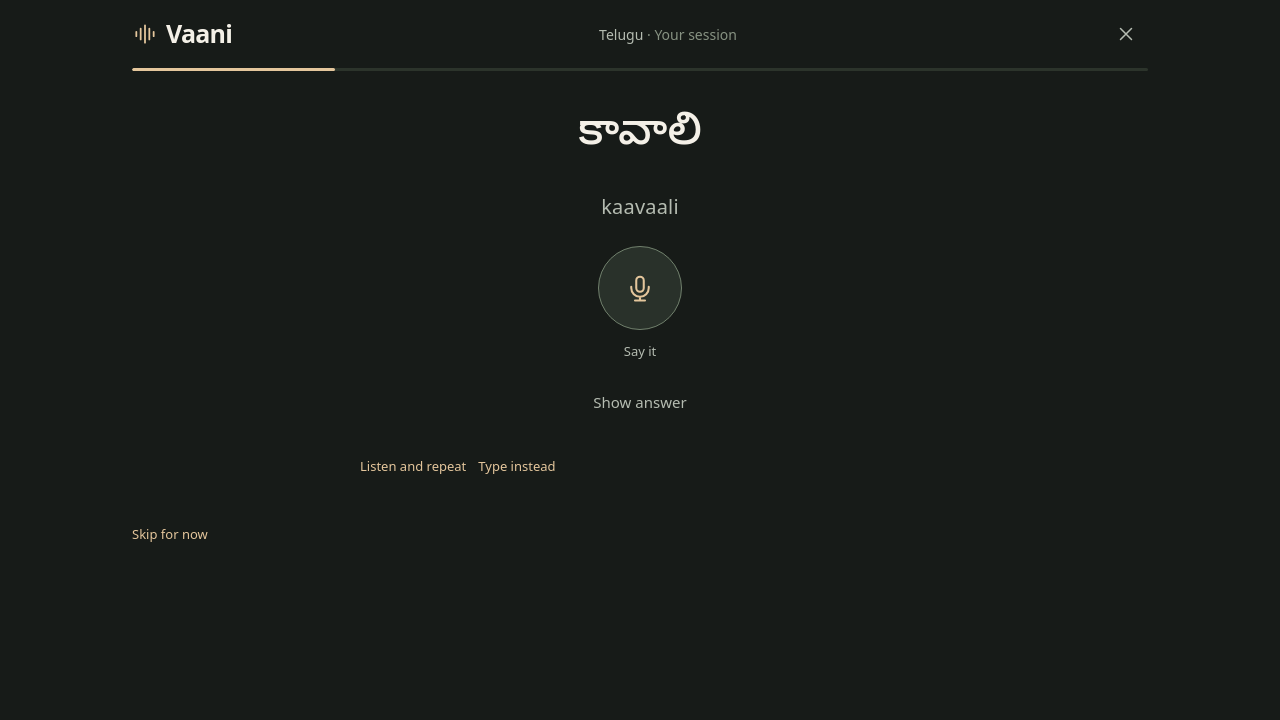
Test case: P0 oral fallback and escape paths › recognition failure offers typing and skip without submitting a wrong answer
Click the button named "Speak Telugu" at (640, 288), box x1=598 y1=246 x2=682 y2=330
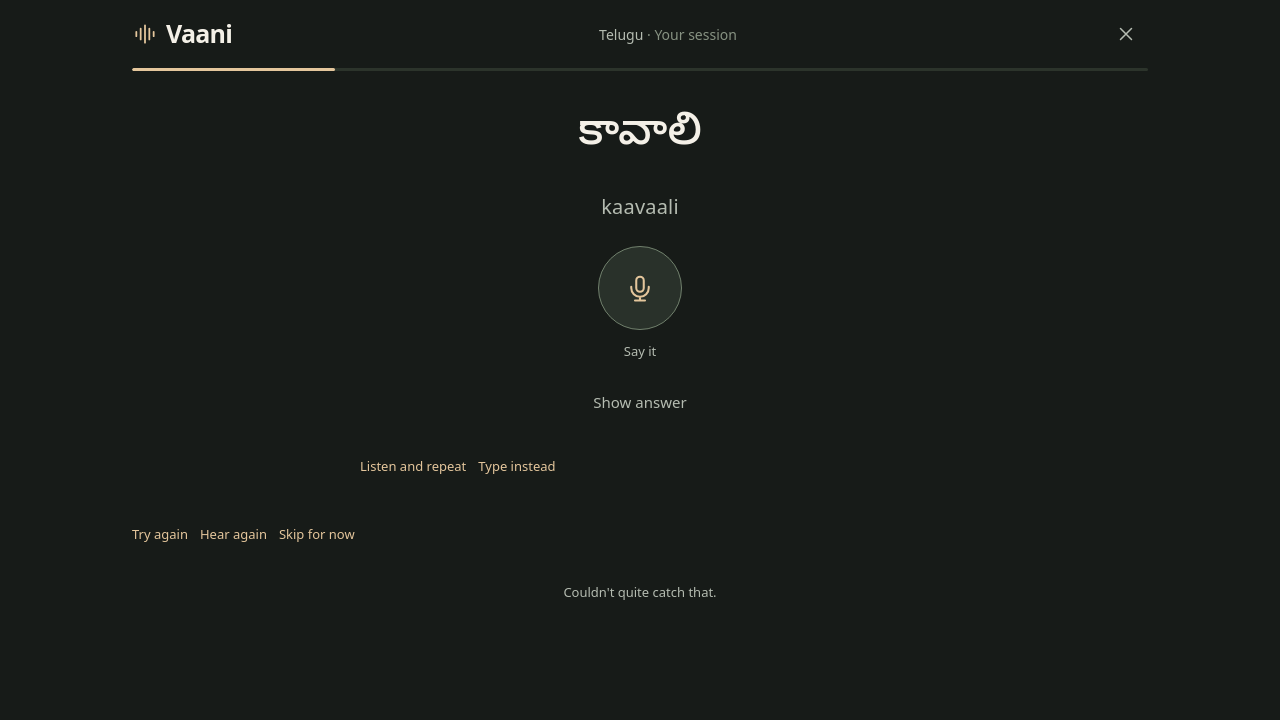
Now the text "Couldn't quite catch that." is shown, box x1=563 y1=581 x2=717 y2=603
Click the button "Type instead" at (517, 467), box x1=478 y1=445 x2=556 y2=489
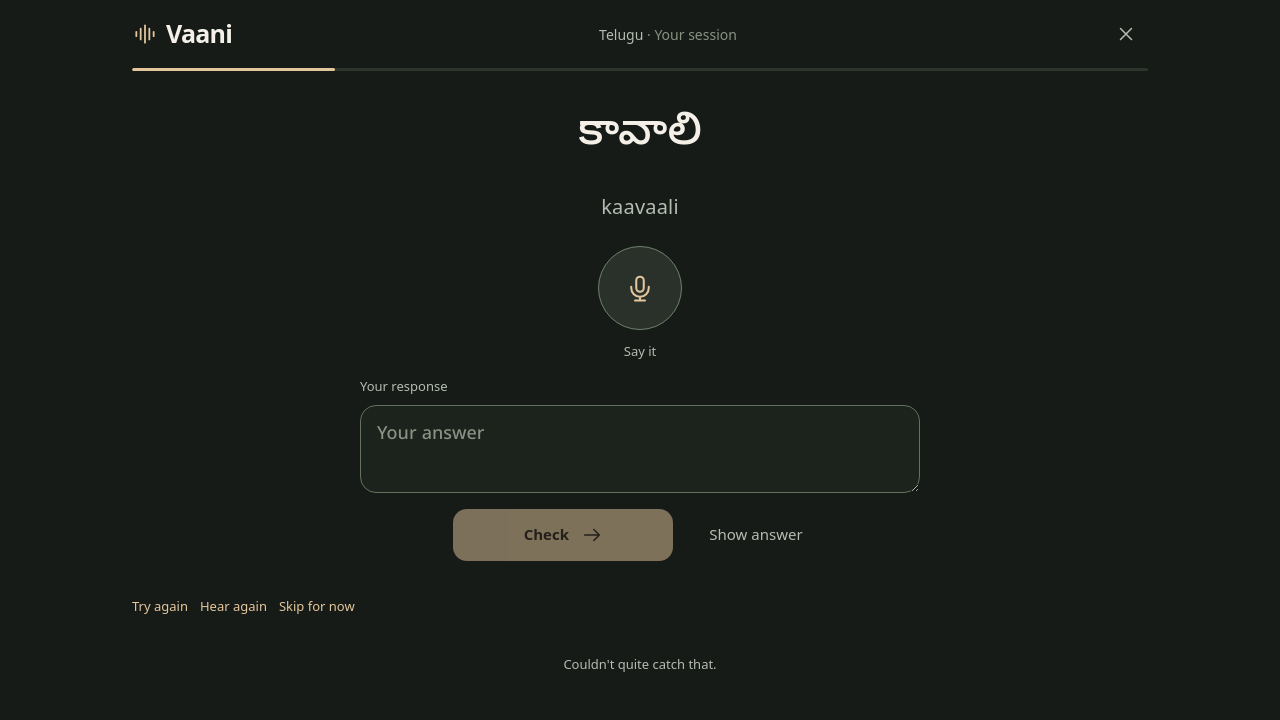
Expected: the button "Skip for now" is enabled, x1=279 y1=584 x2=355 y2=628
Now the text box labelled "Your response" is shown, box x1=360 y1=404 x2=920 y2=492
